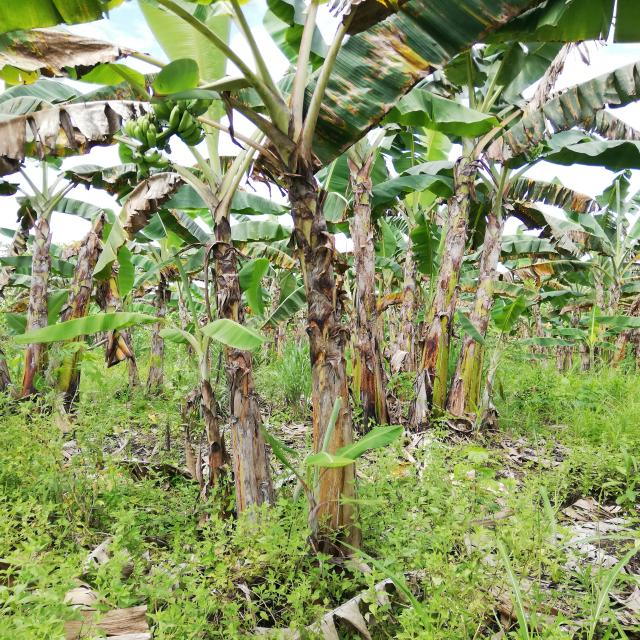Banana-plant: (271, 115, 369, 571), (200, 143, 272, 524), (409, 136, 502, 428), (443, 175, 530, 433), (18, 187, 54, 409)
